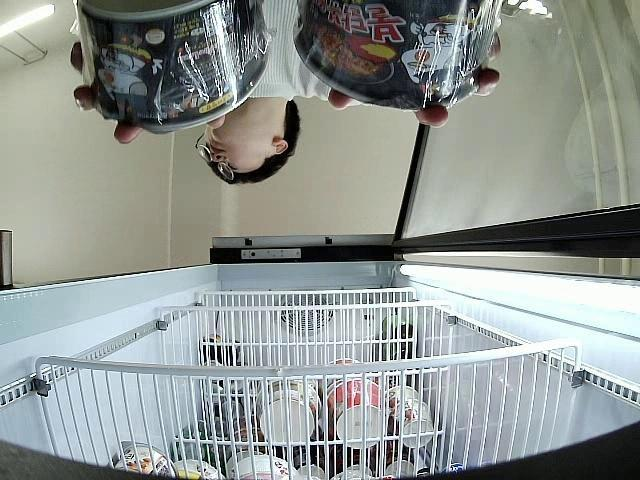07_buldak_L: (70, 0, 269, 131), (292, 0, 488, 108)
